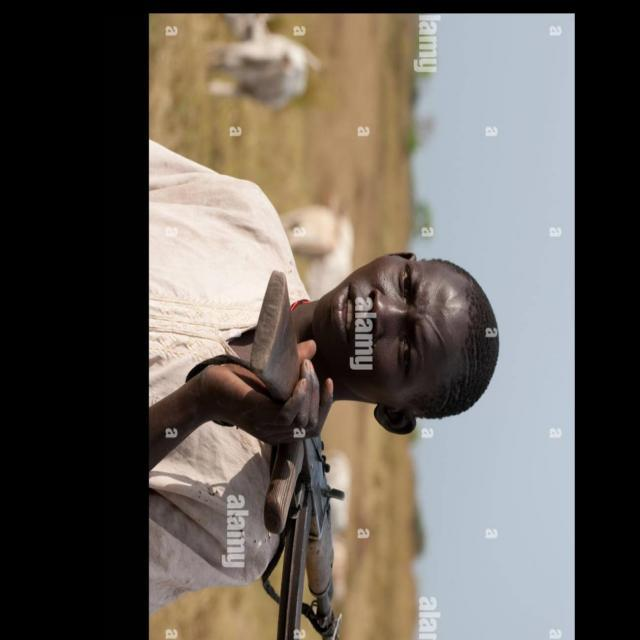weapon: (249, 268, 346, 640)
